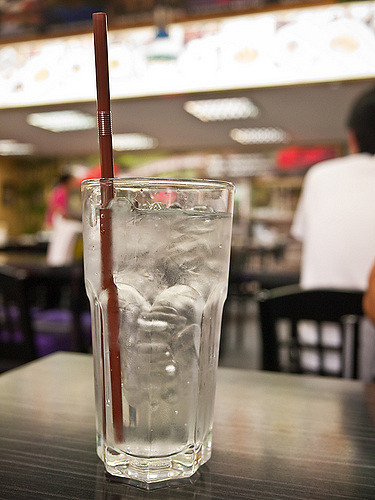glass of water: (80, 173, 237, 484)
